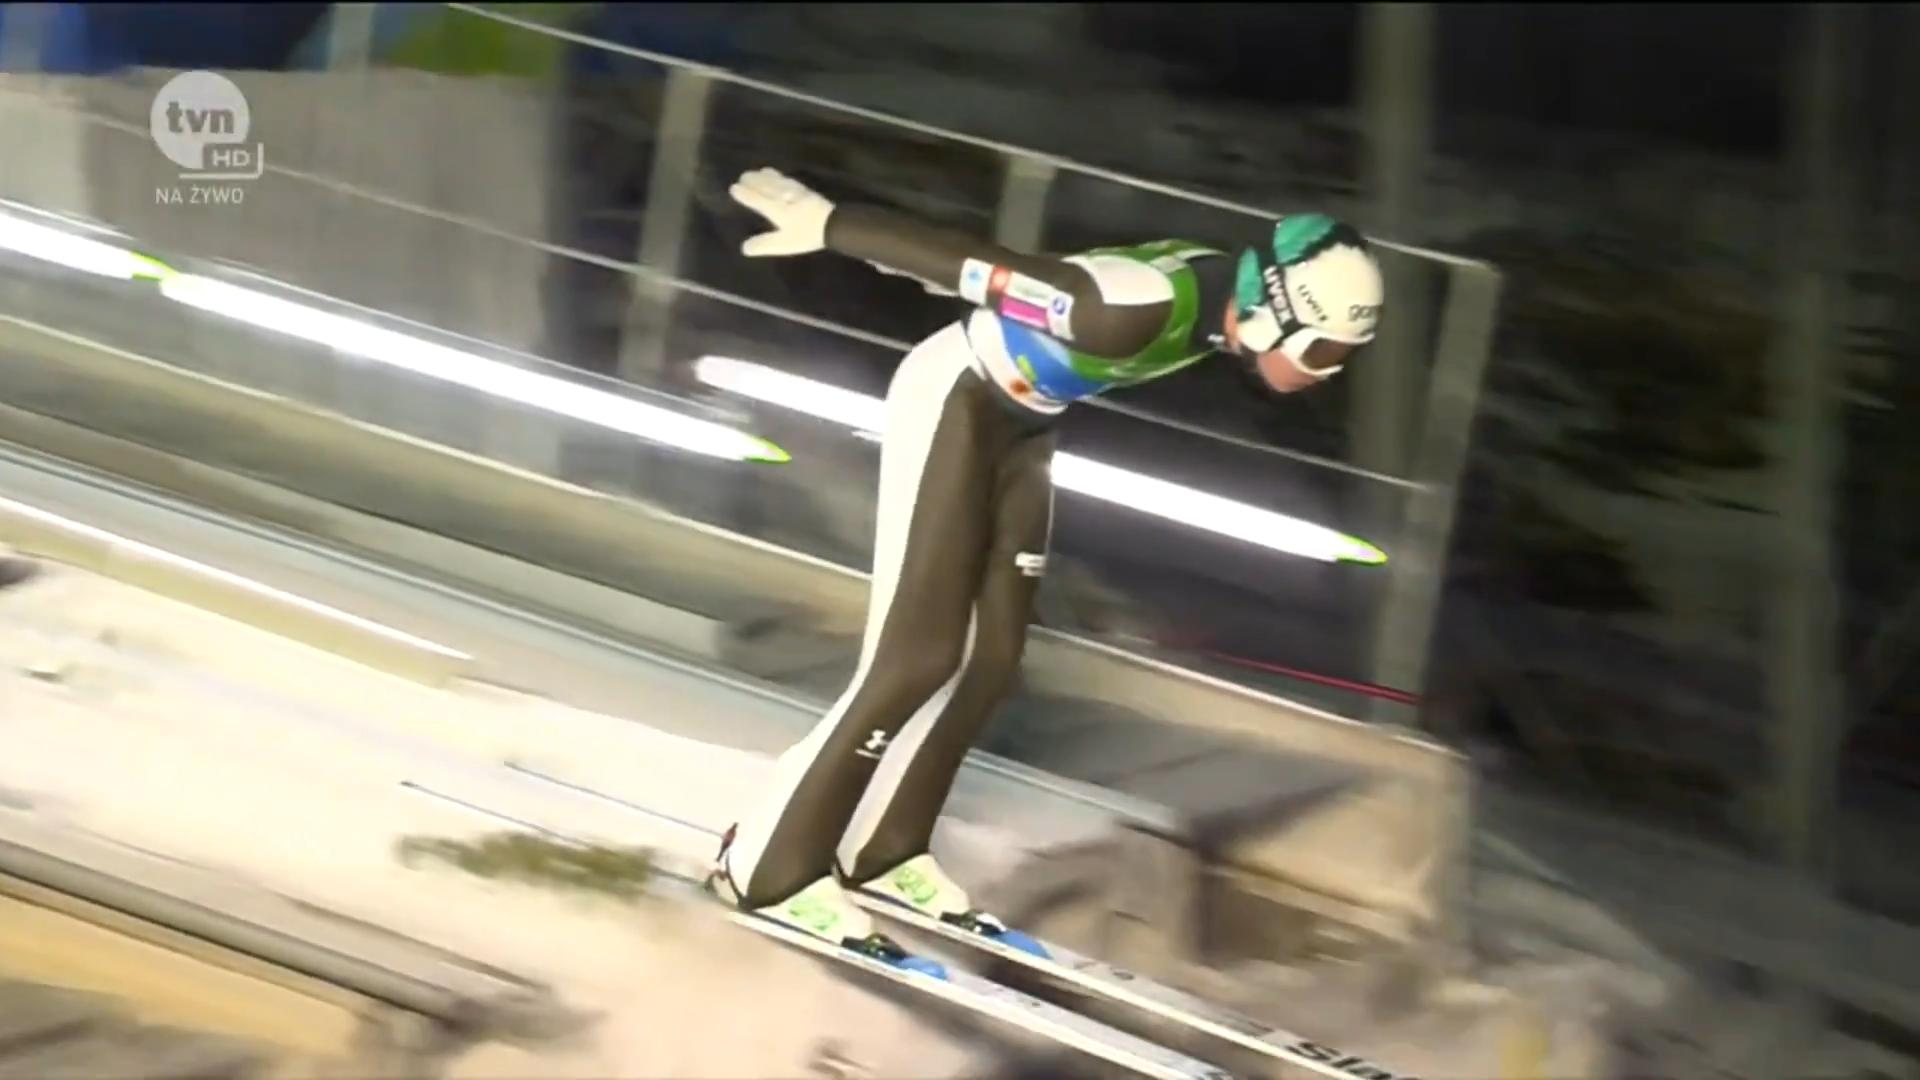prog: (1055, 773, 1369, 893)
